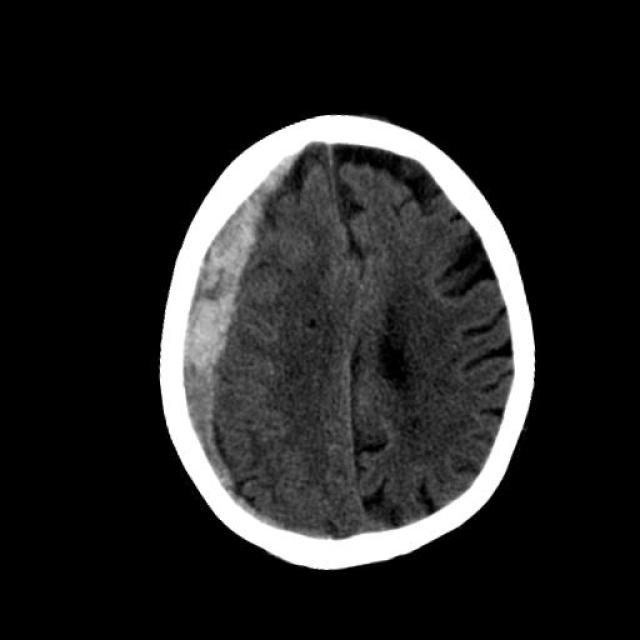Subdural: (64, 138, 340, 524)
